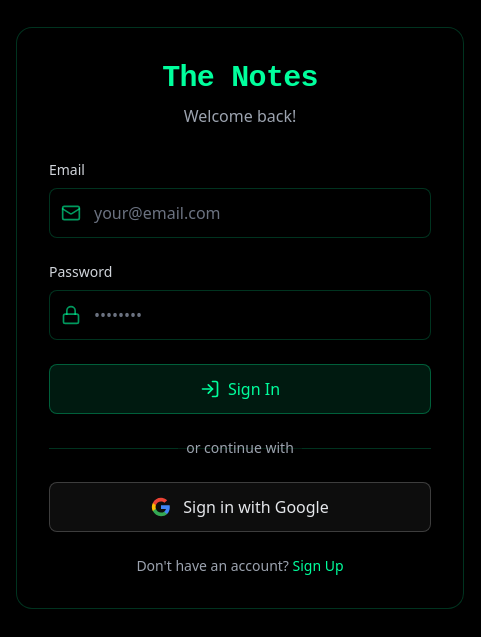
Test case: Firebase Authentication Tests › Sign Up Flow › should toggle between signup and login modes
The width and height of the screenshot is (481, 637).
Expected: the heading "The Notes" is shown, [162,61,318,95]
Expected: the field with id "email" is shown, [49,188,431,238]
What coordinates should you click on to do the following:
click the button "Sign Up"
I would click on:
 (319, 566)
Its box is [293,556,344,576].
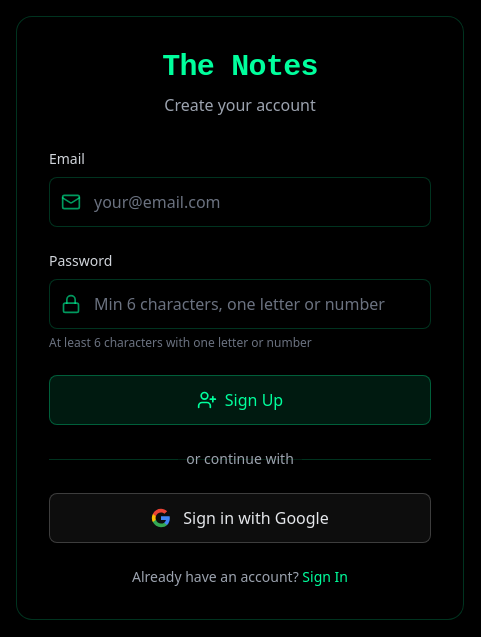
Expected: the text "Create your account" is shown, [164,94,316,116]
Expected: the button "Sign Up" is shown, [49,375,431,425]
What coordinates should you click on to do the following:
click the button "Sign In"
I would click on:
 (325, 577)
Its box is [302,567,348,587].
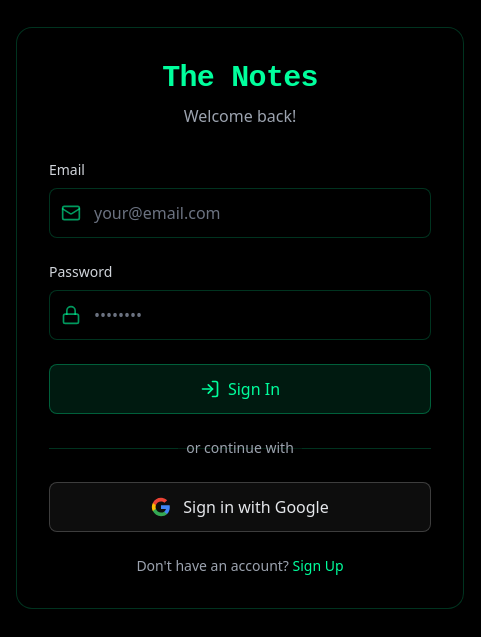
Expected: the text "Welcome back!" is shown, [184,105,296,127]
Expected: the button "Sign In" is shown, [49,364,431,414]
